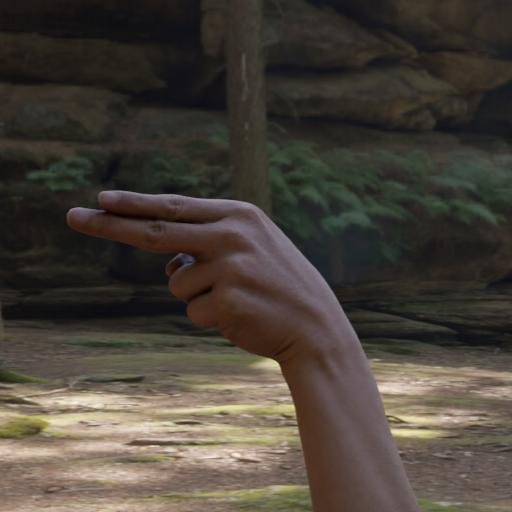H: (60, 170, 384, 382)
